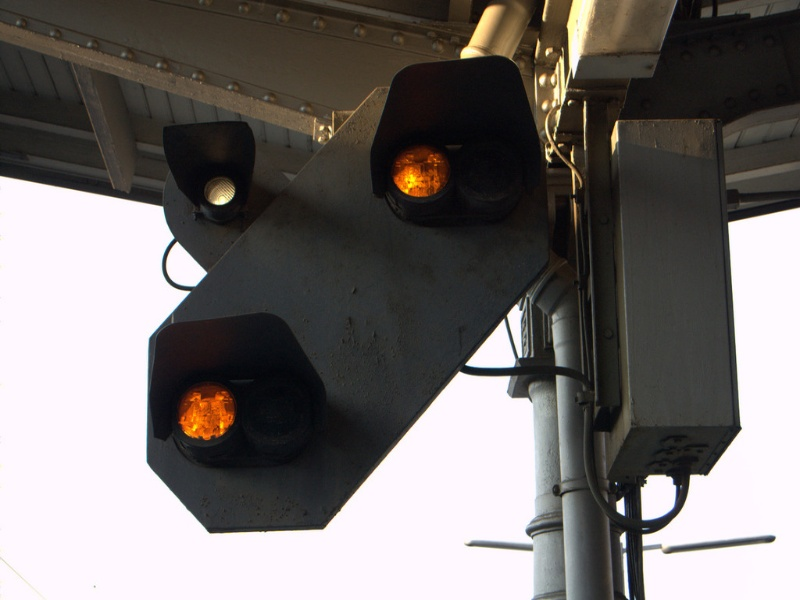yellow_light: (158, 314, 291, 457), (341, 84, 474, 213)
